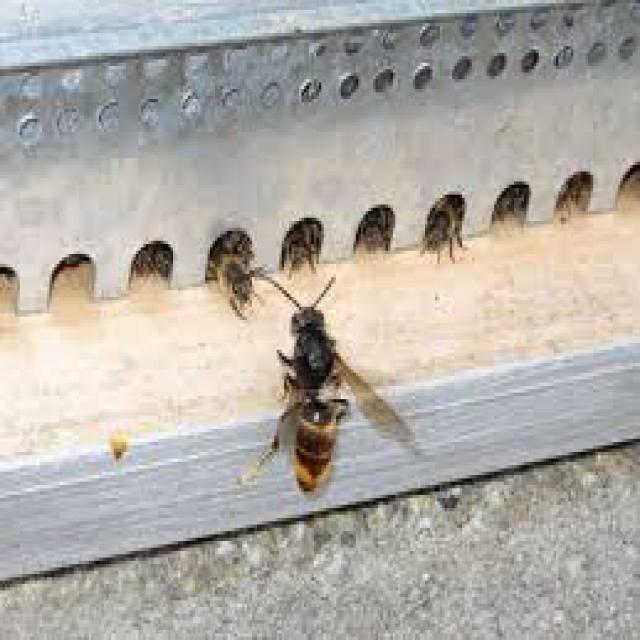Vespa Velutina: (227, 277, 420, 510)
